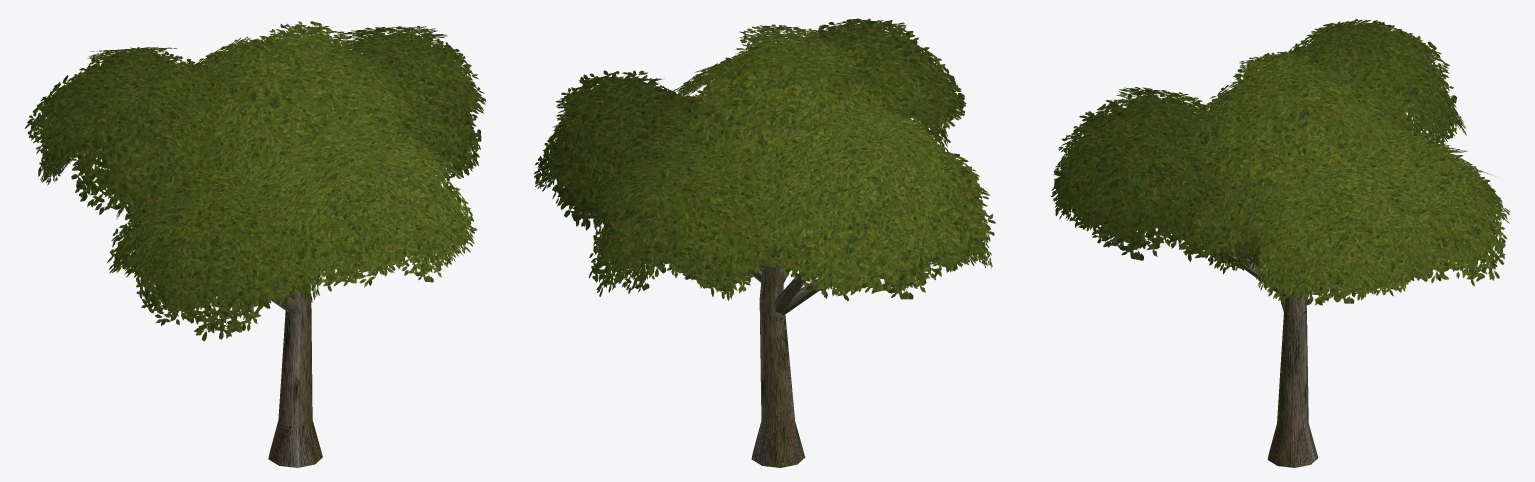
File: tree_broadleaf_a.glb
3 views of the same model, side by side, from view 1: azimuth 30°, elevation 25°; view 2: azimuth 150°, elevation 25°; view 3: azimuth 270°, elevation 25° (orthographic). The views are drawn at different scales.
Visible parts, largest first — view 1: tree_broadleaf_a; view 2: tree_broadleaf_a; view 3: tree_broadleaf_a.
Boxes of the visible parts, x1,y1,x2,y2 form: tree_broadleaf_a: (25, 21, 485, 467); tree_broadleaf_a: (534, 18, 995, 467); tree_broadleaf_a: (1051, 19, 1510, 467).
Bounding box in the file's own units: 8.93 × 8.06 × 8.95.
1 material, 1 textured.
